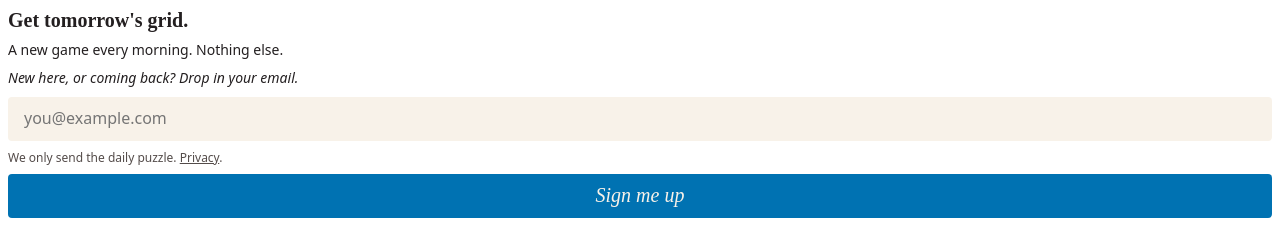
Test: the form doubles as a restore path › says Welcome back for an address with history under another visitor id
expect the text "New here, or coming back? Drop in your email." is shown: met, box [8,68,298,87]
In the field named "Email address": (640, 119) [8,97,1272,141], type "player@example.com"
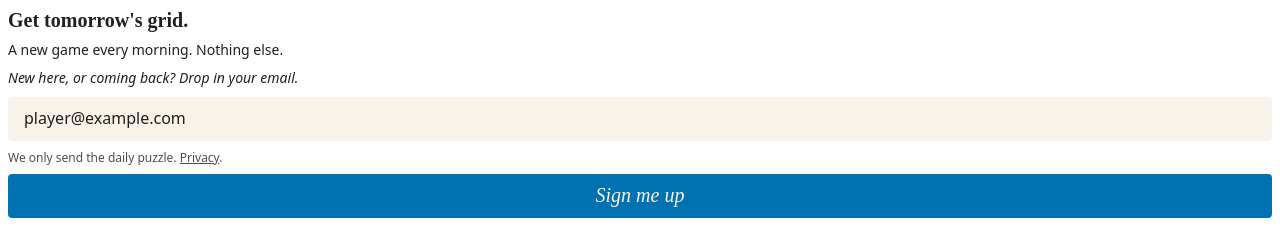
Click the button "Sign me up": (640, 196) [8,174,1272,218]
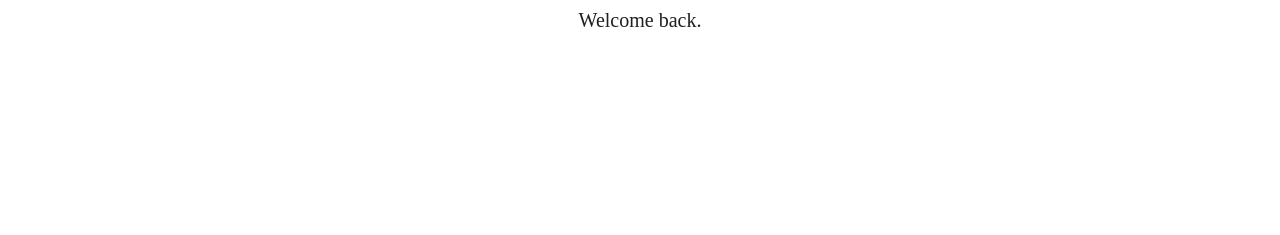
expect the text "Welcome back." is shown: met, box [579,9,701,31]
